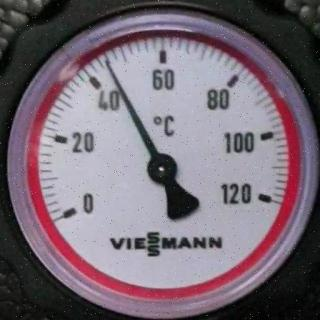gauge: (0, 0, 320, 320), (52, 190, 94, 230), (243, 180, 285, 218), (145, 151, 179, 185), (100, 54, 114, 70)
